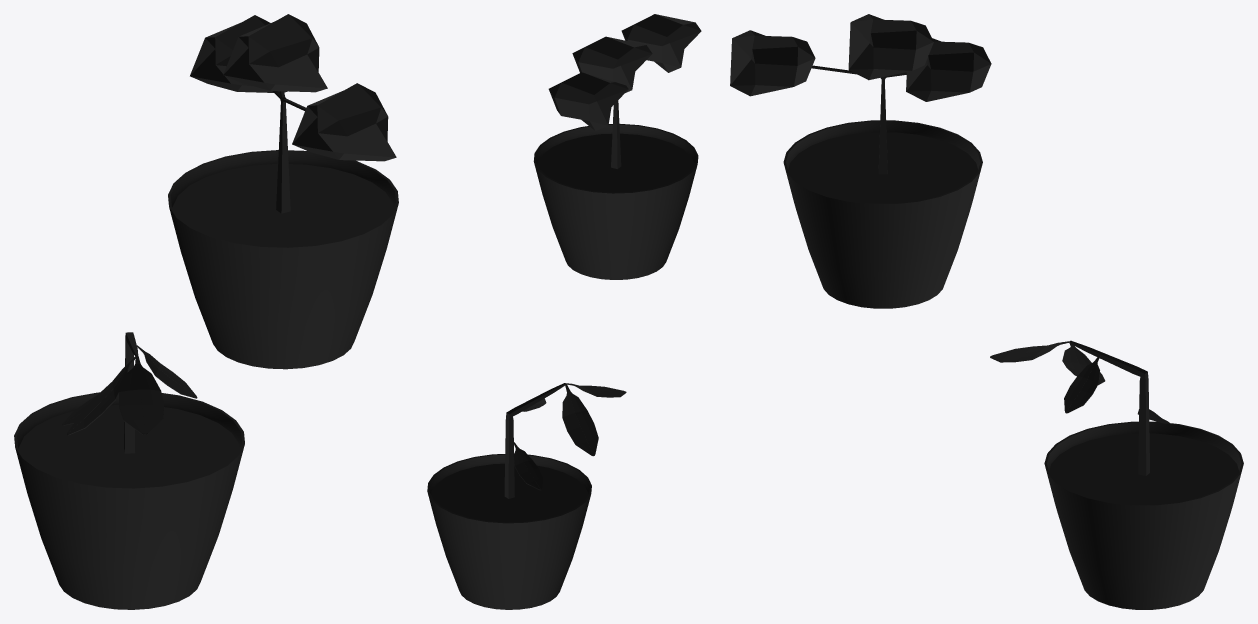
Rendered from grass.obj.
3 views of the same model, side by side, from view 1: azimuth 30°, elevation 25°; view 2: azimuth 150°, elevation 25°; view 3: azimuth 270°, elevation 25° (orthographic). The views are drawn at different scales.
Parts seen in each view (by area): view 1: obj3, obj2, obj4, obj1; view 2: obj3, obj2, obj4, obj1; view 3: obj3, obj2, obj4, obj1.
Boxes of the visible parts, <box> form: obj3: <box>168,150,398,369</box>; obj2: <box>14,392,244,609</box>; obj4: <box>190,14,396,213</box>; obj1: <box>62,332,197,453</box>; obj3: <box>533,123,698,279</box>; obj2: <box>427,454,591,609</box>; obj4: <box>548,14,701,168</box>; obj1: <box>504,383,626,498</box>; obj3: <box>783,120,982,308</box>; obj2: <box>1044,421,1243,609</box>; obj4: <box>730,14,991,174</box>; obj1: <box>990,340,1170,475</box>.
Bounding box in the file's own units: 0.4377 × 1.36 × 1.12.
